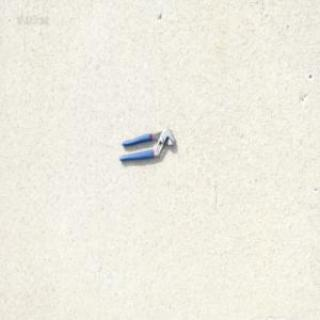Pliertrack_idkeyframe: (116, 125, 174, 162)
